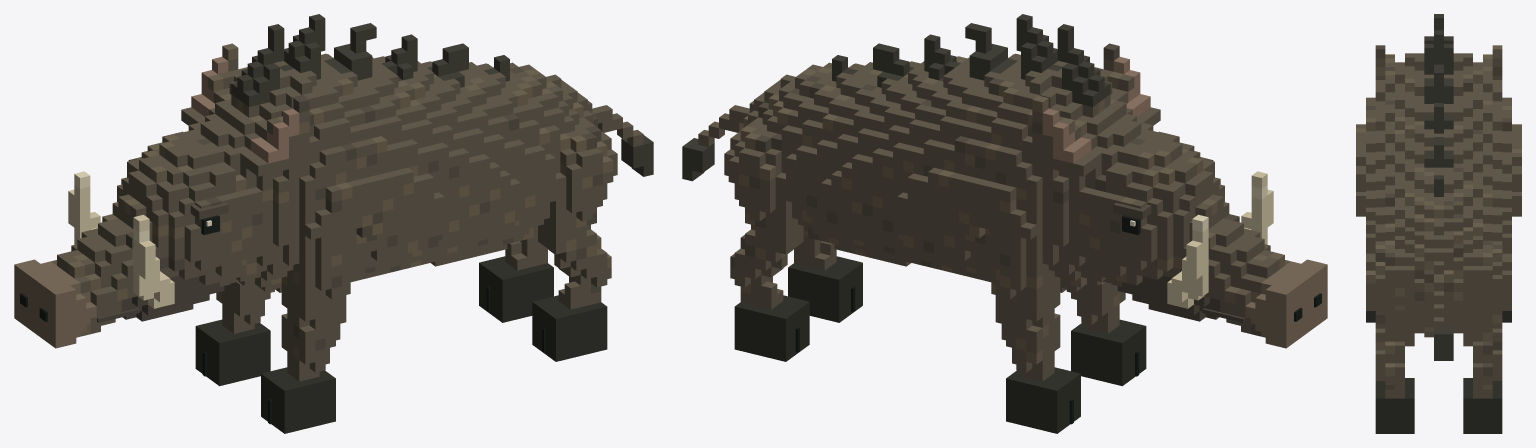
The model's file is Wild_Boar.glb.
The picture shows the model from 3 angles, left to right: view 1: azimuth 30°, elevation 25°; view 2: azimuth 150°, elevation 25°; view 3: azimuth 270°, elevation 25°; orthographic projection. The views are drawn at different scales.
Parts seen in each view (by area): view 1: Pelagem e anatomia, Cascos, Crista de cerdas, Focinho, Orelhas, Presas, Cauda; view 2: Pelagem e anatomia, Cascos, Crista de cerdas, Focinho, Orelhas, Presas, Cauda; view 3: Pelagem e anatomia, Cascos, Crista de cerdas, Orelhas, Cauda.
Boxes of the visible parts, box(x1,y1,x2,y2) form: Pelagem e anatomia: box(51, 53, 643, 381); Cascos: box(195, 256, 607, 433); Crista de cerdas: box(231, 14, 509, 106); Focinho: box(14, 259, 224, 348); Orelhas: box(181, 43, 309, 176); Presas: box(68, 171, 174, 308); Cauda: box(621, 135, 653, 176); Pelagem e anatomia: box(698, 53, 1290, 381); Cascos: box(734, 256, 1146, 433); Crista de cerdas: box(832, 14, 1110, 106); Focinho: box(1117, 259, 1327, 348); Orelhas: box(1032, 43, 1160, 176); Presas: box(1167, 171, 1273, 308); Cauda: box(682, 138, 714, 181); Pelagem e anatomia: box(1356, 53, 1521, 398); Cascos: box(1366, 311, 1511, 433); Crista de cerdas: box(1424, 14, 1453, 196); Orelhas: box(1375, 45, 1502, 79); Cauda: box(1434, 326, 1453, 360).
Bounding box in the file's own units: 3.61 × 2.04 × 1.02.
